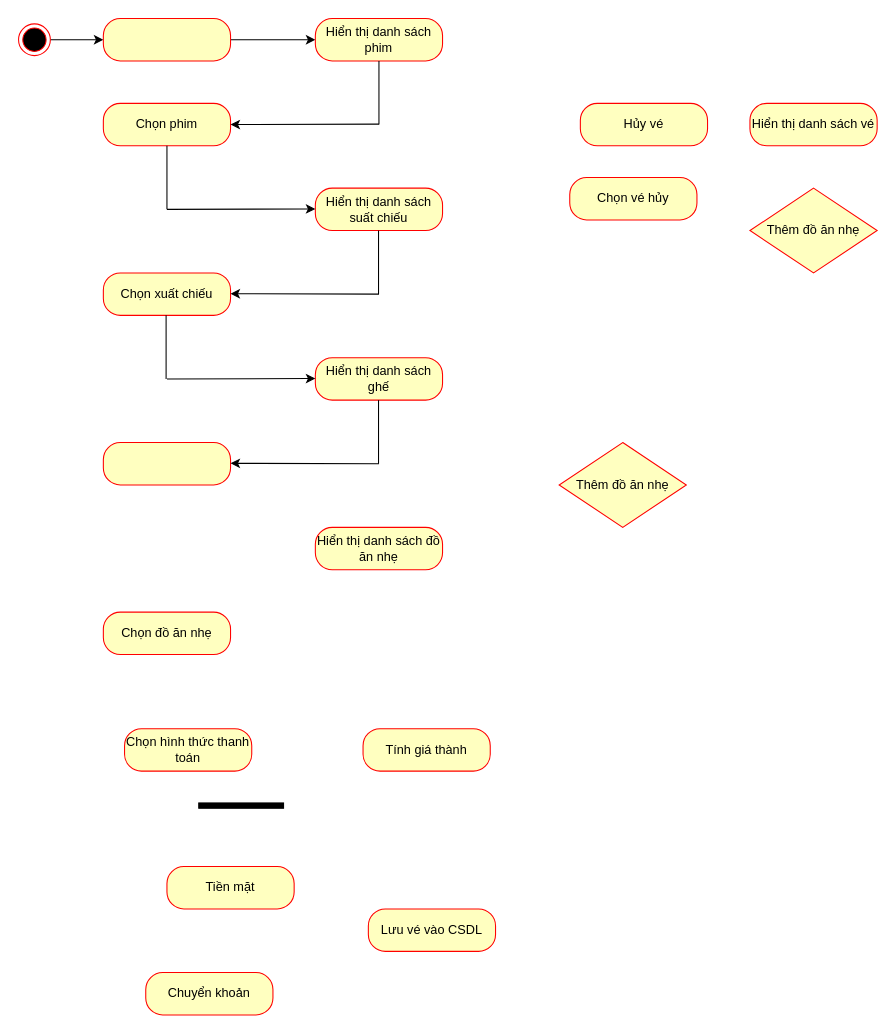
Some shapes in this 896 by 1034 pixel diagram are drawn without their labels. Here are the shapes that lost their labels. From the top down, the centre of each, then its label:
pixel 166 39: Đặt vé
pixel 166 463: Chọn ghế còn trống
